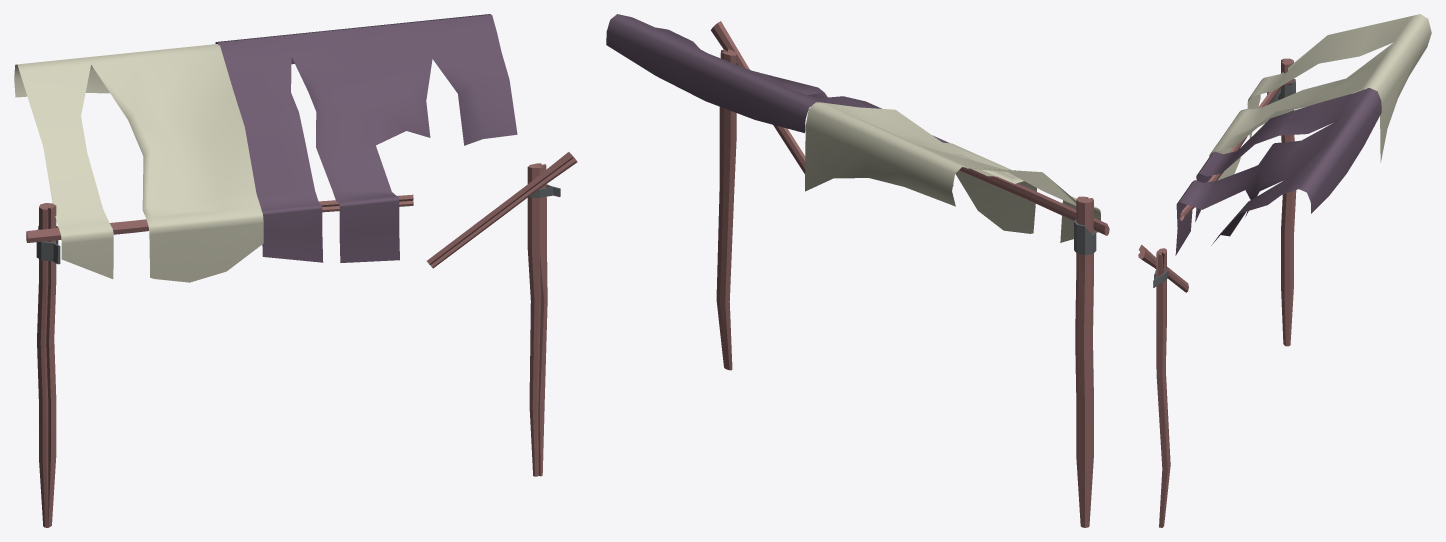
File: SM_Tree_Stump_Dup_Tent_Entrance.fbx
3 renders of one model, left to right at view 1: azimuth 30°, elevation 25°; view 2: azimuth 150°, elevation 25°; view 3: azimuth 270°, elevation 25°, orthographic. The views are drawn at different scales.
Visible parts, largest first — view 1: SM_Tree_Stump_Dup_Tent_Entrance; view 2: SM_Tree_Stump_Dup_Tent_Entrance; view 3: SM_Tree_Stump_Dup_Tent_Entrance.
Part boxes in pixels (<box>): SM_Tree_Stump_Dup_Tent_Entrance: <box>14,14,577,527</box>; SM_Tree_Stump_Dup_Tent_Entrance: <box>606,14,1109,527</box>; SM_Tree_Stump_Dup_Tent_Entrance: <box>1138,14,1431,527</box>.
Size of the model in its own units: 108 by 85.5 by 64.87.
